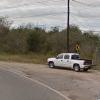Car: (46, 46, 93, 74)
